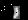person: (14, 7, 21, 20)
